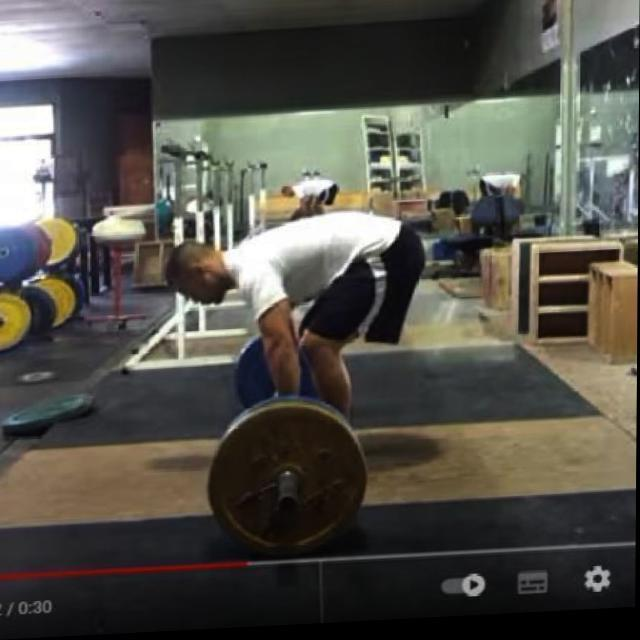barbell: (206, 402, 372, 566)
